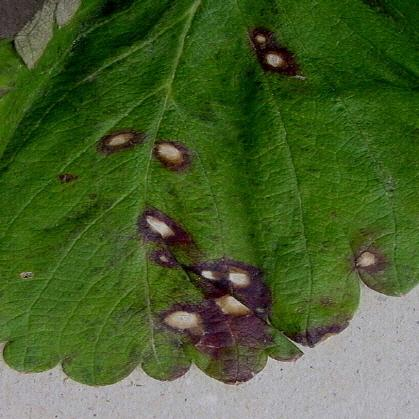Leaf Spot: (0, 0, 418, 387)
